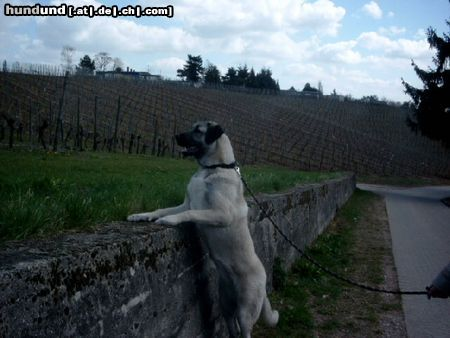kangal: (126, 120, 279, 337)
